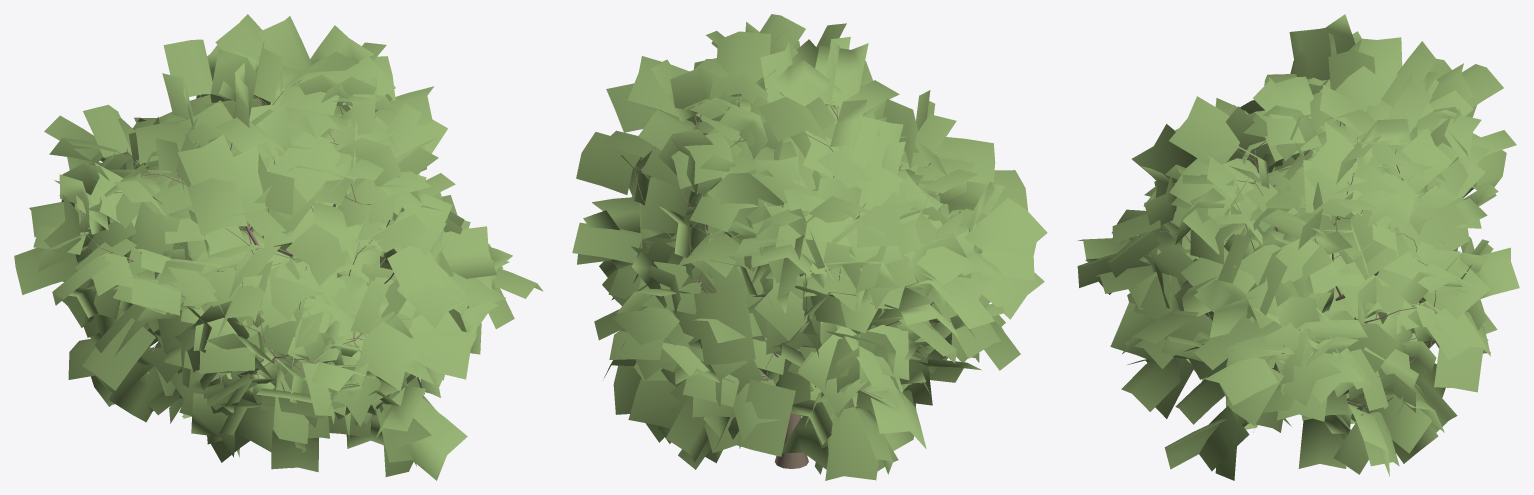
File: Oak_11_young_lod0.glb
3 views of the same model, side by side, from view 1: azimuth 30°, elevation 25°; view 2: azimuth 150°, elevation 25°; view 3: azimuth 270°, elevation 25° (orthographic). The views are drawn at different scales.
Visible parts, largest first — view 1: Oak_11_young_lod0; view 2: Oak_11_young_lod0; view 3: Oak_11_young_lod0.
Boxes of the visible parts, x1,y1,x2,y2 form: Oak_11_young_lod0: (14,14,543,480); Oak_11_young_lod0: (572,14,1047,480); Oak_11_young_lod0: (1077,14,1519,480).
Size of the model in its own units: 9.73 by 8.53 by 8.34.
